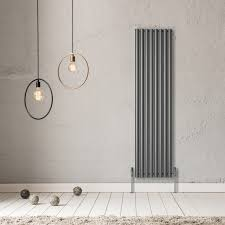Radiator: (129, 26, 178, 180)
